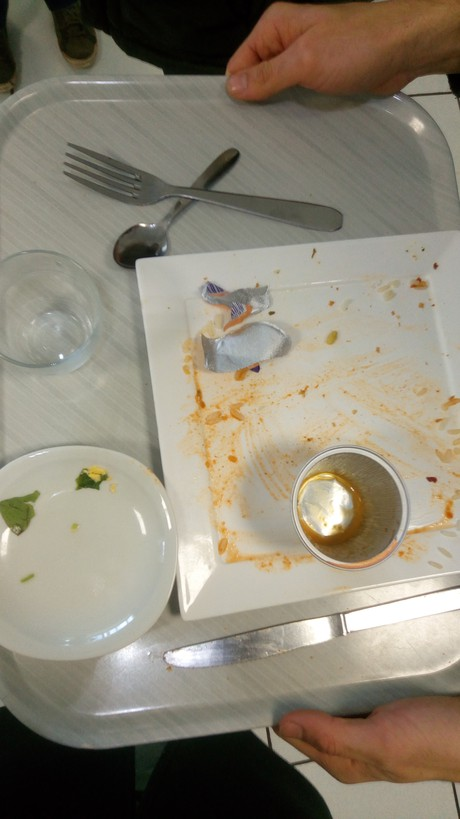cup: (1, 242, 113, 381)
cutlery: (48, 120, 357, 275)
trash: (294, 444, 419, 570), (197, 285, 302, 376)
